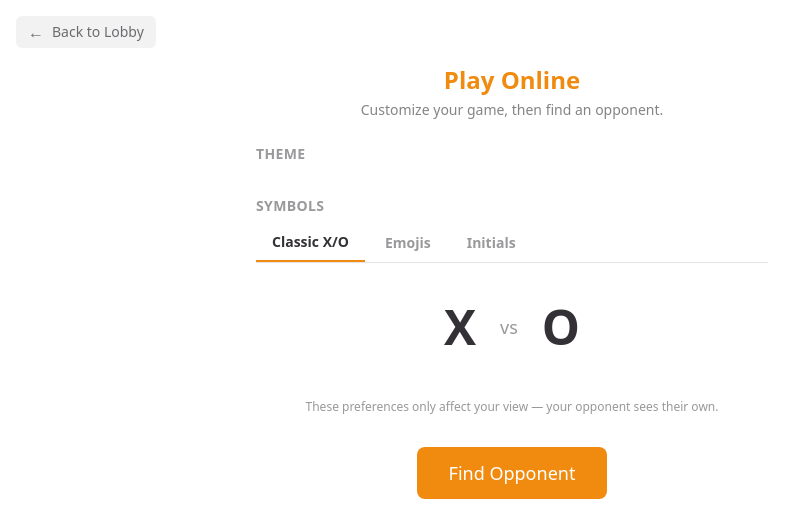
Matchmaking › navigates to game after match_found transition delay
Click the button "Find Opponent" at (512, 473), box 417,447 -> 608,499
Wait 1500 ms
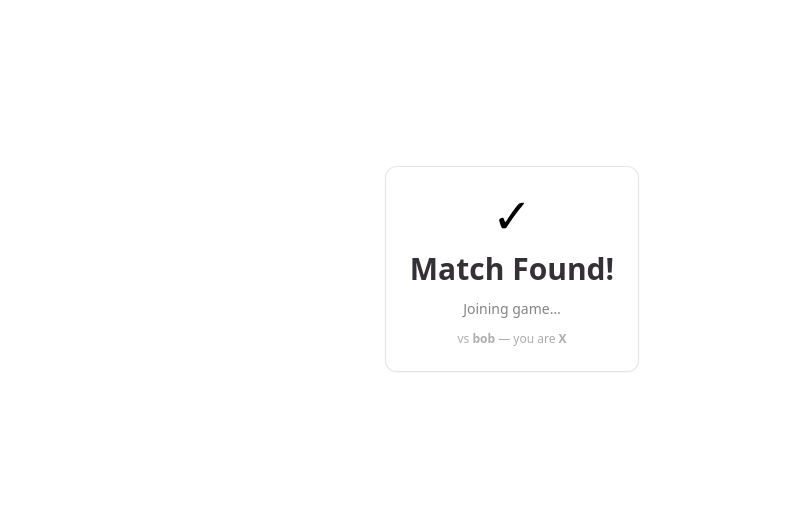
Now the heading "Match Found!" is shown, box 410,251 -> 614,287
